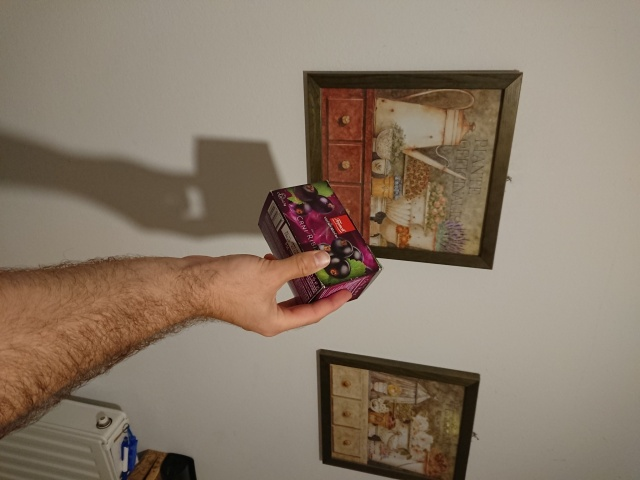Franck Black Currant Tea 60g: (256, 177, 384, 314)
